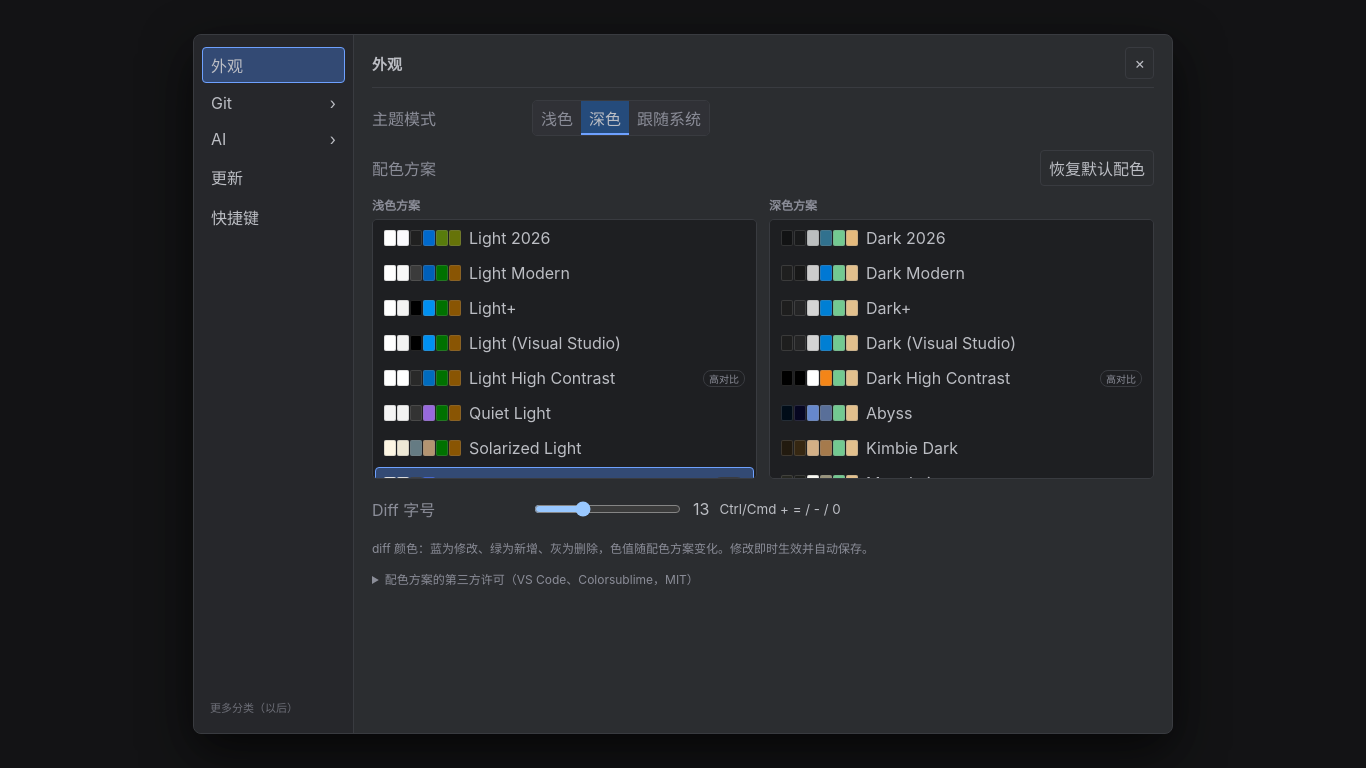
Scenario: explains signed automatic updates for an installed Mac bundle
Click the button "更新" at [274, 177], box [202,159,345,195]
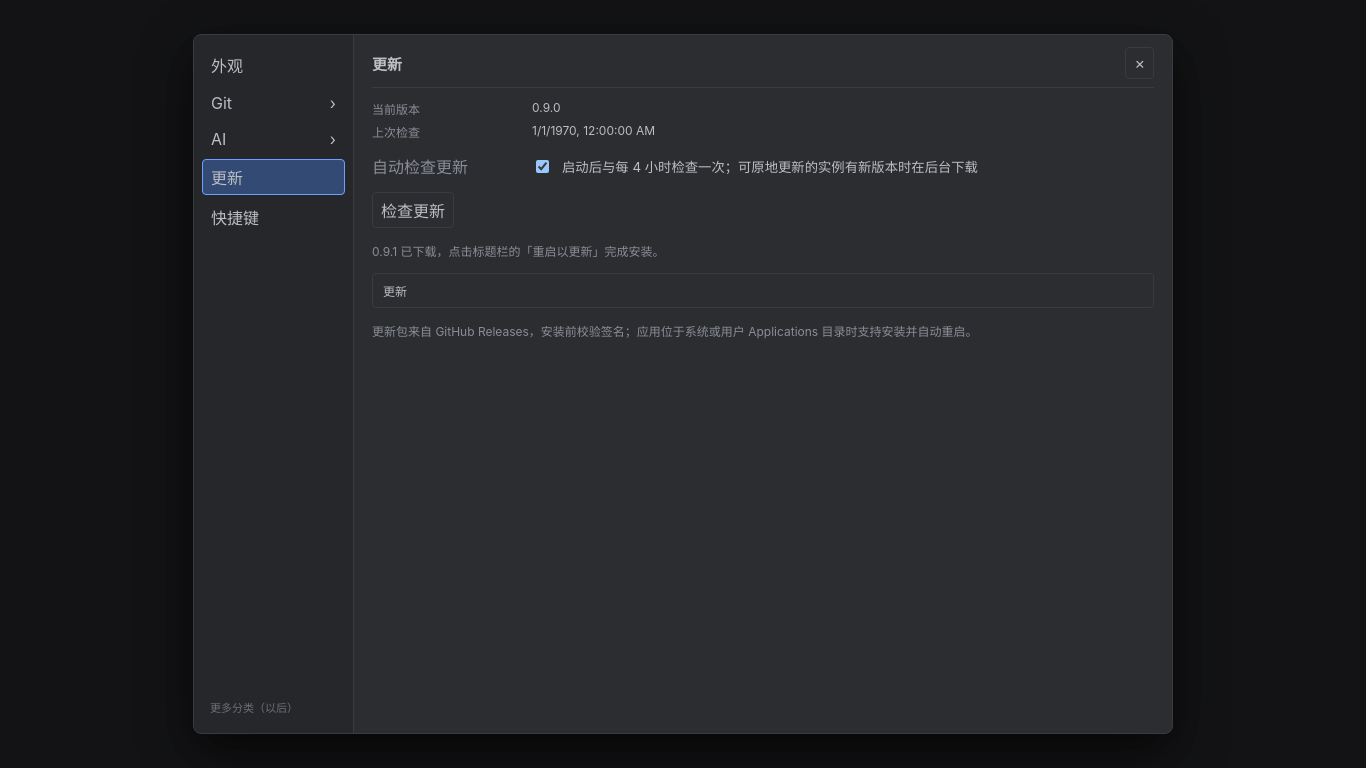
Expected: the text "重启以更新" is shown, [372,244,664,259]
Expected: the text "安装前校验签名" is shown, [372,324,978,339]
Expected: the text "Applications" is shown, [372,324,978,339]
